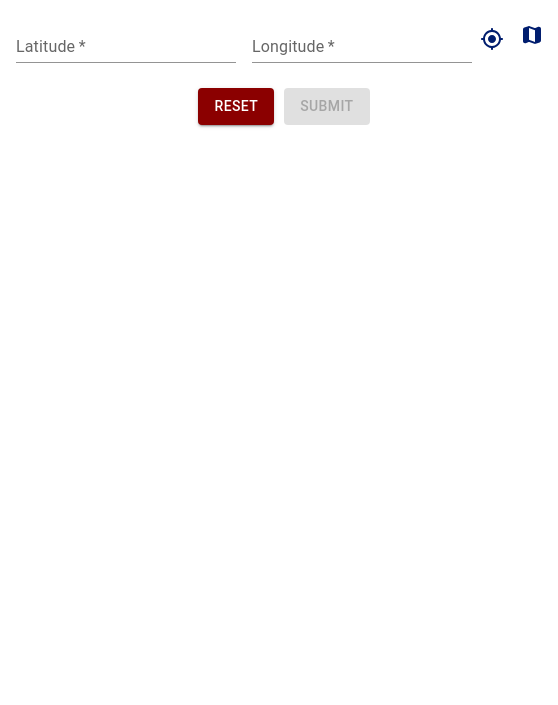
Test case: Home Page › throws error for an invalid BC lat/lng coordinates
The image size is (558, 705).
Check: the number field with test id "input-longitude" is shown, box [252,31,472,63]
Check: the button with test id "btn-reset" is shown, box [198,88,274,124]
Type "1" into the number field with test id "input-latitude" at (126, 47), box [16,31,236,63]
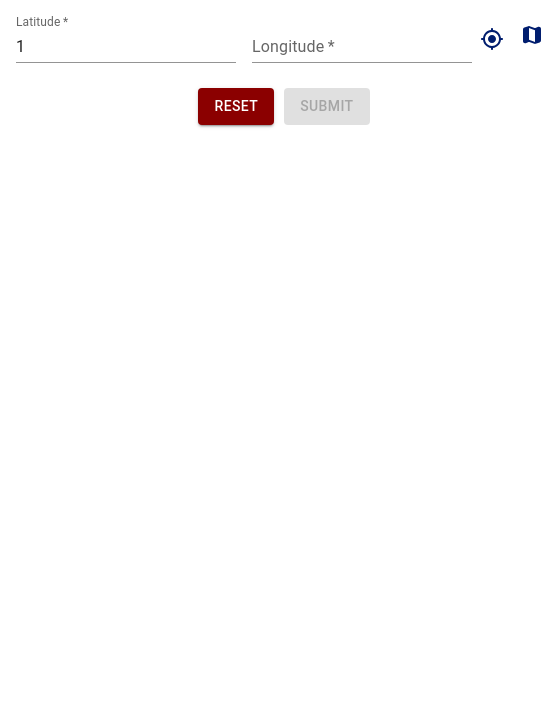
Type "1" into the number field with test id "input-longitude" at (362, 47), box [252,31,472,63]
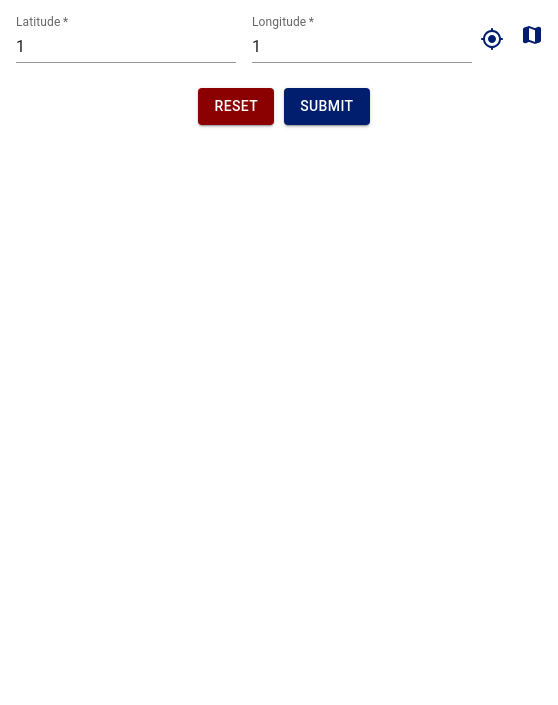
Click the button with test id "btn-submit" at (327, 106), box [284,88,370,124]
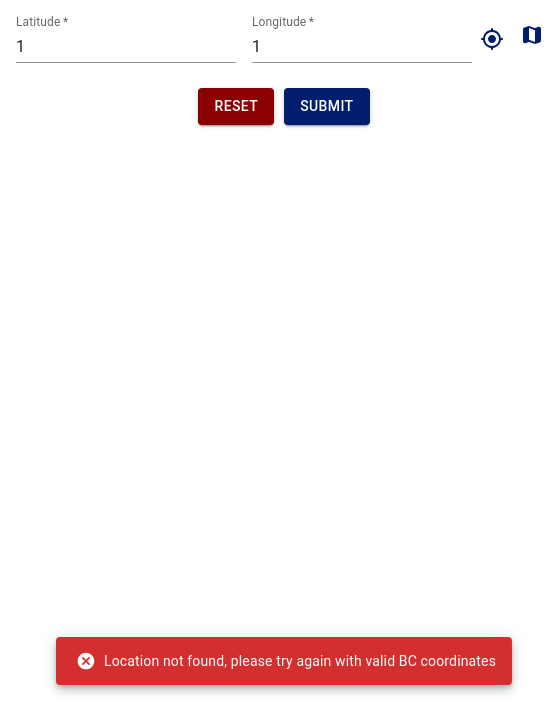
Check: the text "Location not found, please try again with valid BC coordinates" is shown, box [76,651,496,671]
